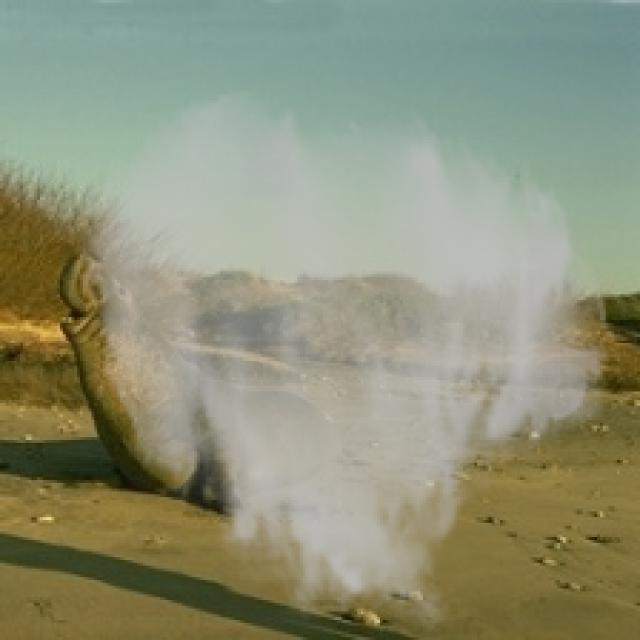Smoke: (75, 86, 614, 634)
